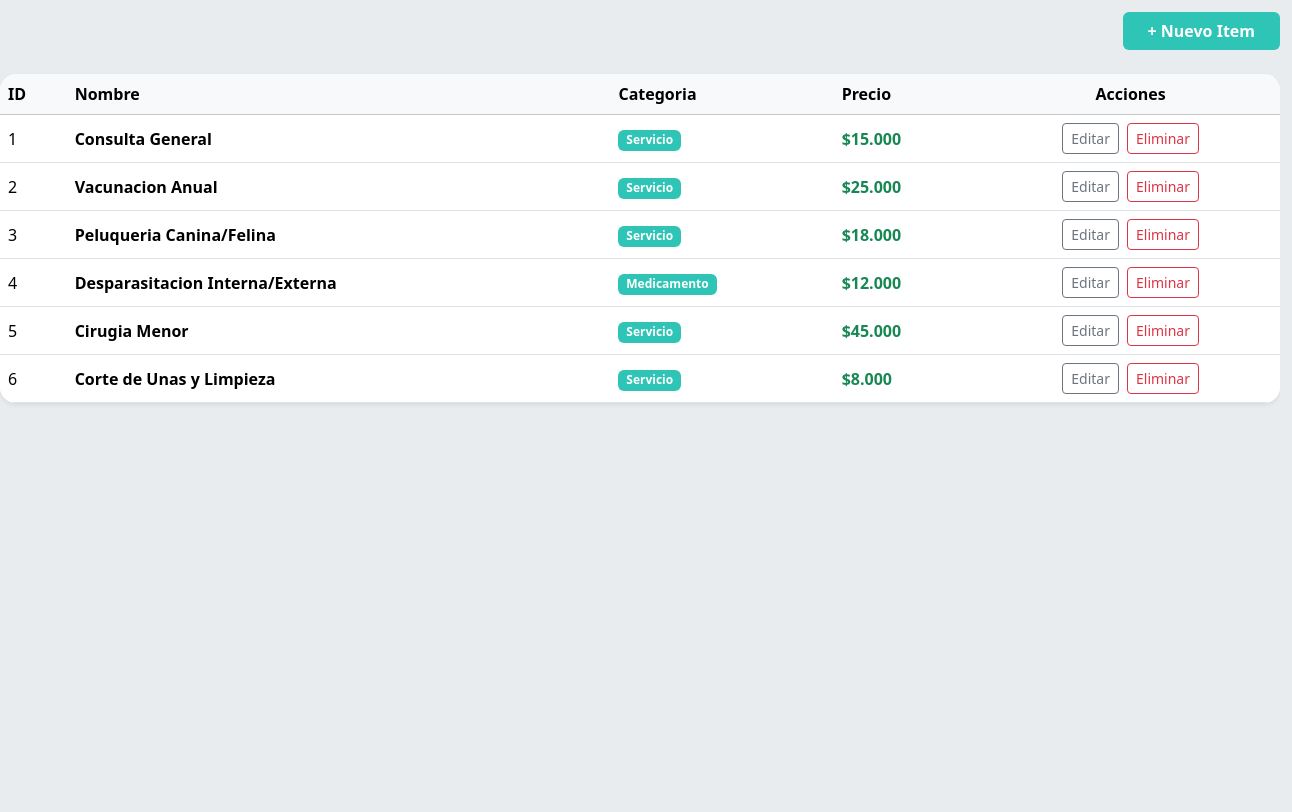
Test: Prueba 5: CRUD Catalogo - Crear › permite agregar un nuevo item y reflejarlo en la tabla
The width and height of the screenshot is (1292, 812).
Click the button "+ Nuevo Item". click: (1201, 31)
box: [1122, 12, 1280, 50]
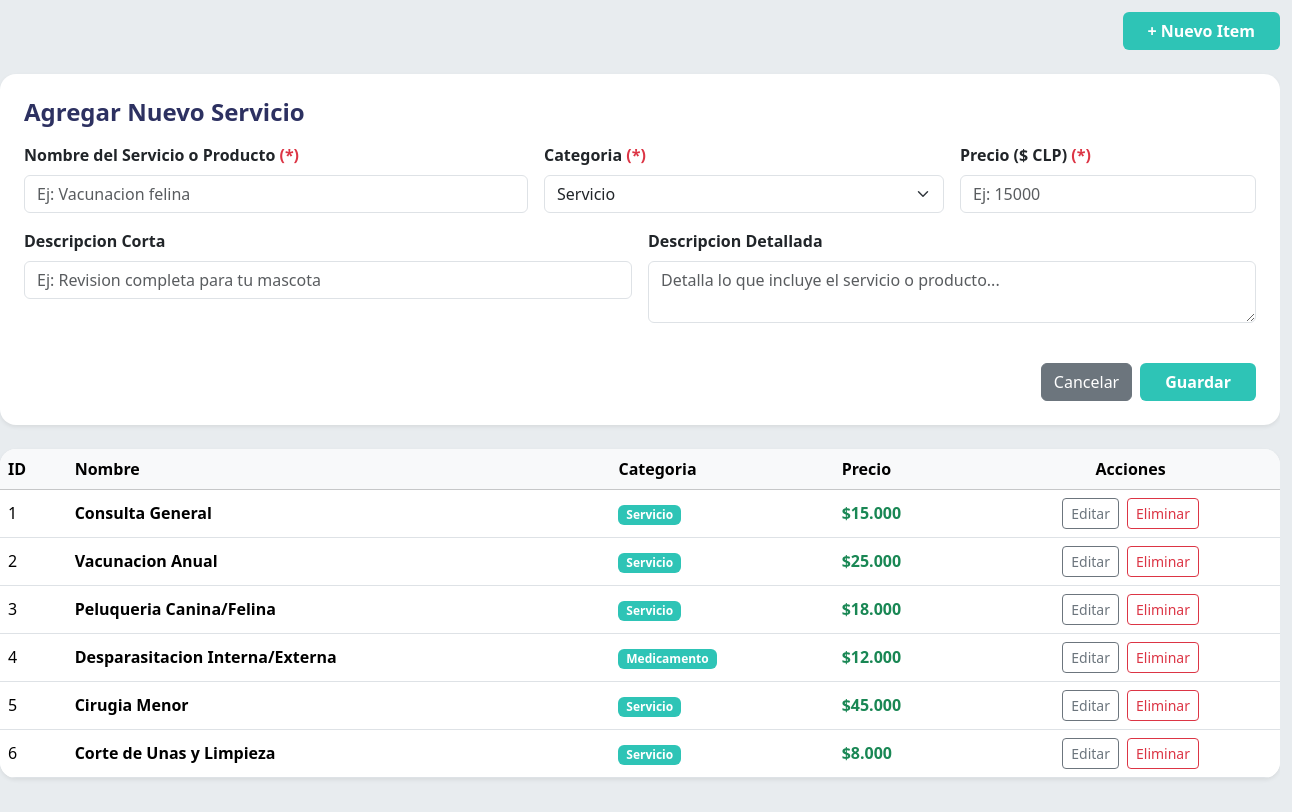
Type "Ecografia de Control" into the field with placeholder "Ej: Vacunacion felina". click: (276, 194)
box: [24, 175, 528, 213]
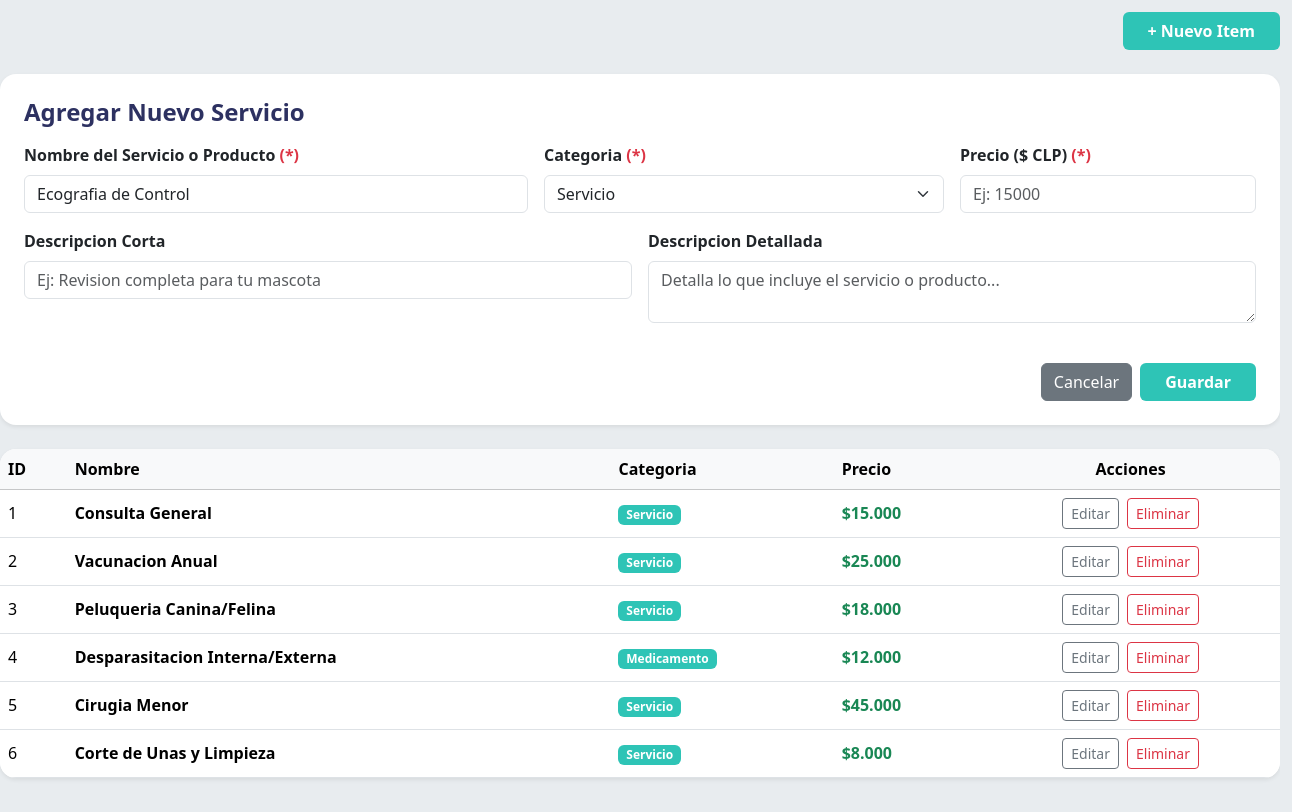
Type "32000" into the number field with placeholder "Ej: 15000". click: (1108, 194)
box: [960, 175, 1256, 213]
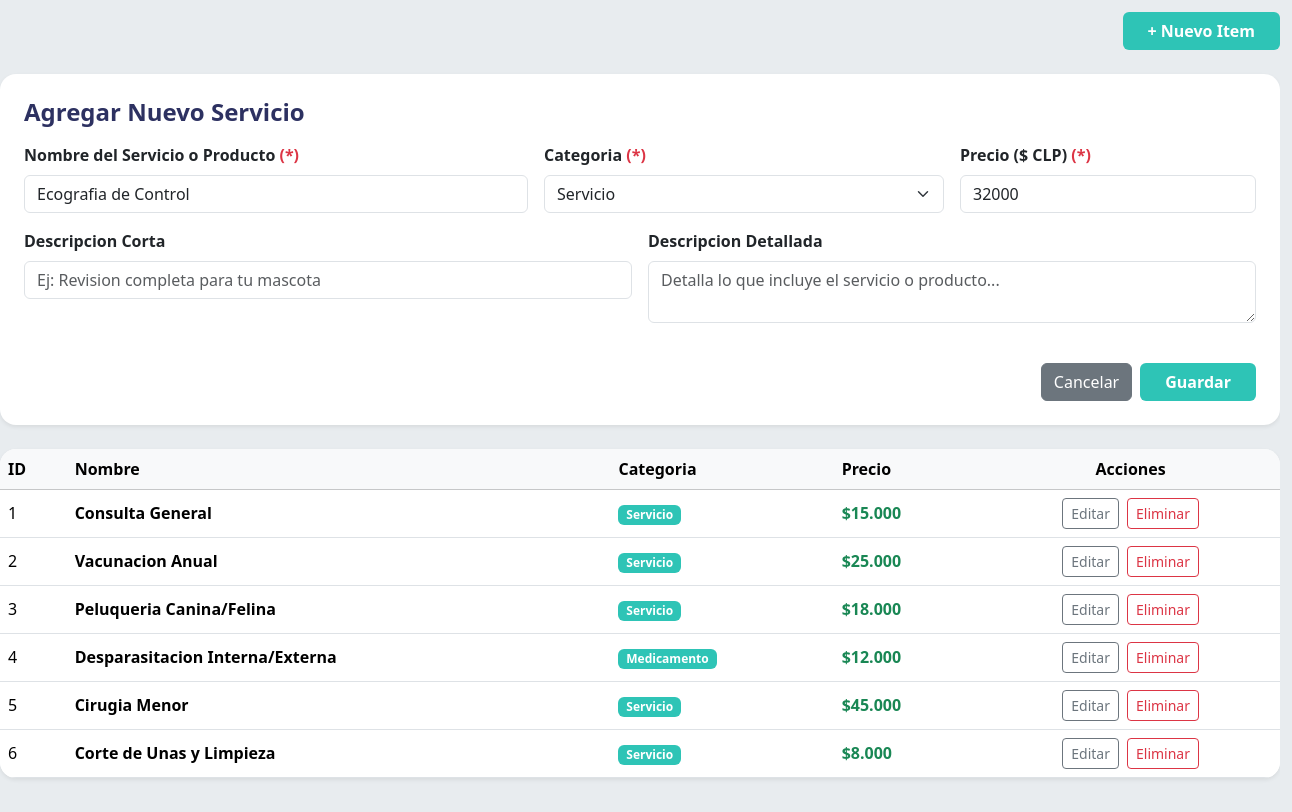
Click the button "Guardar". click: (1198, 382)
box: [1140, 363, 1256, 401]
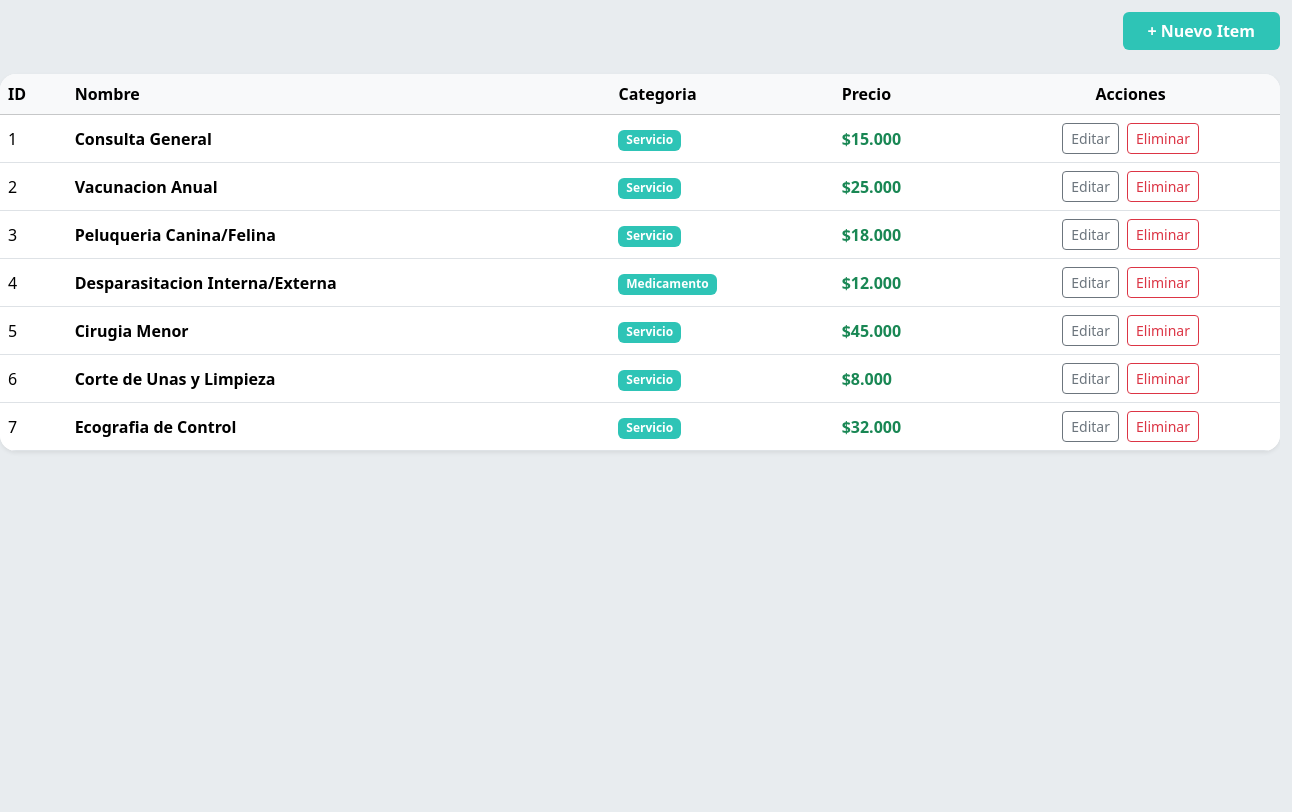
Expected: the text "Ecografia de Control" is shown, [67, 402, 610, 450]
Expected: the text "$32.000" is shown, [834, 402, 981, 450]
